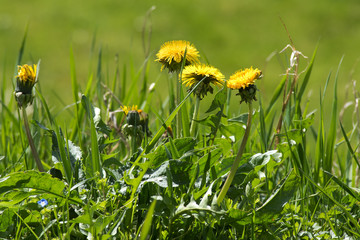dandelion: (150, 37, 200, 66), (180, 64, 226, 90), (230, 65, 265, 93)
